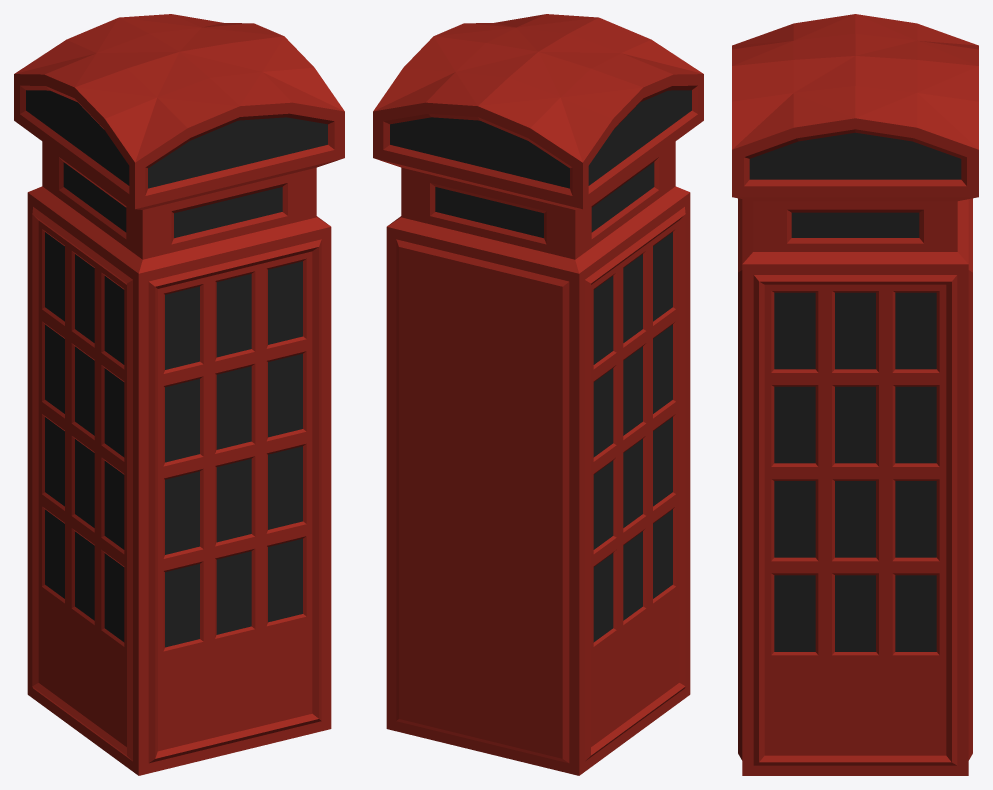
Rendered from TelephoneBox.fbx.
3 views of the same model, side by side, from view 1: azimuth 30°, elevation 25°; view 2: azimuth 150°, elevation 25°; view 3: azimuth 270°, elevation 25° (orthographic).
Visible parts, largest first — view 1: TelephoneBox; view 2: TelephoneBox; view 3: TelephoneBox.
Part boxes in pixels (x1,y1,x2,y2): TelephoneBox: [14, 14, 344, 775]; TelephoneBox: [373, 14, 703, 775]; TelephoneBox: [732, 14, 978, 775].
Bounding box in the file's own units: 87.44 × 263 × 87.44.
